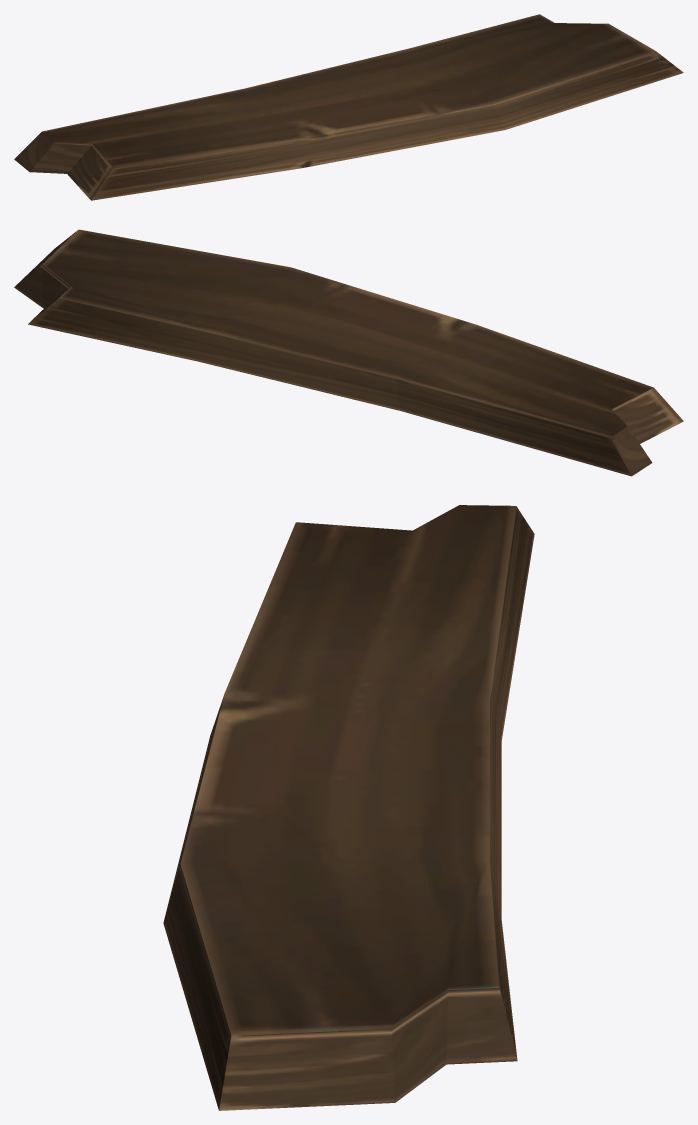
Rendered from bandit_groundboard_02.fbx.
The picture shows the model from 3 angles, top to bottom: view 1: azimuth 30°, elevation 25°; view 2: azimuth 150°, elevation 25°; view 3: azimuth 270°, elevation 25°; orthographic projection. The views are drawn at different scales.
Parts seen in each view (by area): view 1: obj0.536; view 2: obj0.536; view 3: obj0.536.
Boxes of the visible parts, <box> form: obj0.536: <box>14,14,683,200</box>; obj0.536: <box>14,229,683,476</box>; obj0.536: <box>163,505,534,1110</box>.
Size of the model in its own units: 2.43 by 0.0996 by 0.6592.
